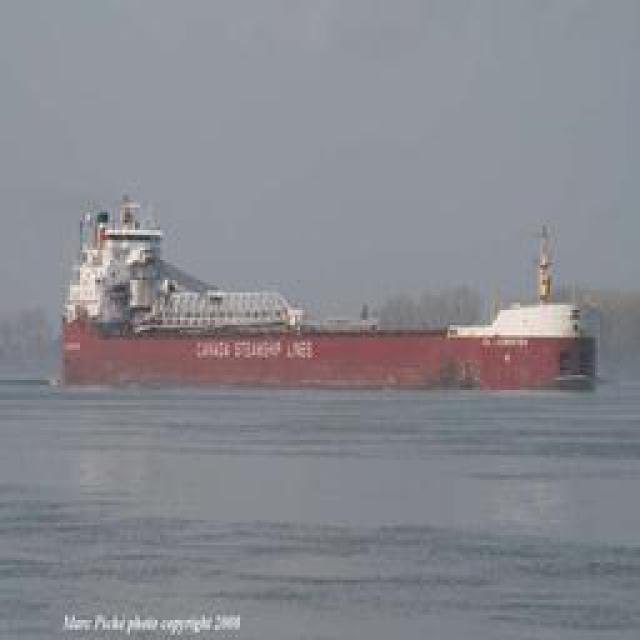Ship: (61, 194, 609, 406)
